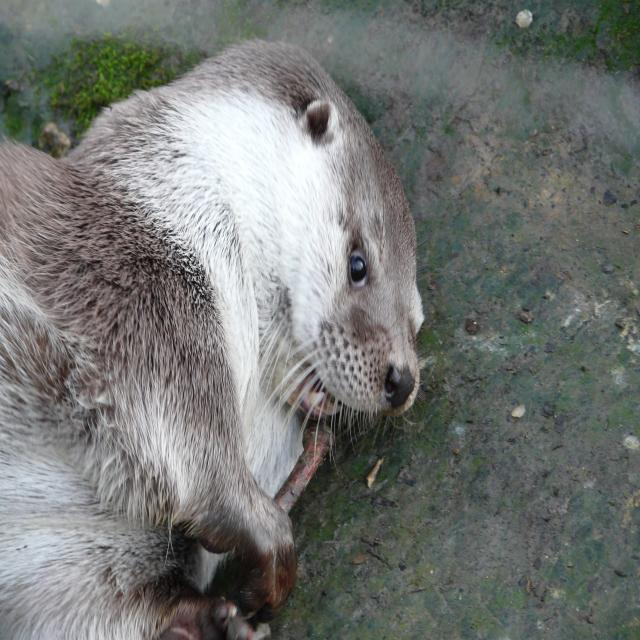otter: (1, 36, 424, 640)
